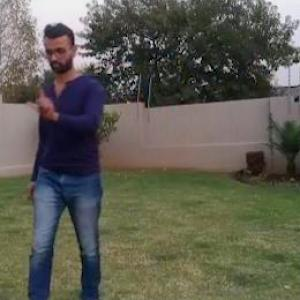land_hand: (23, 80, 61, 127)
